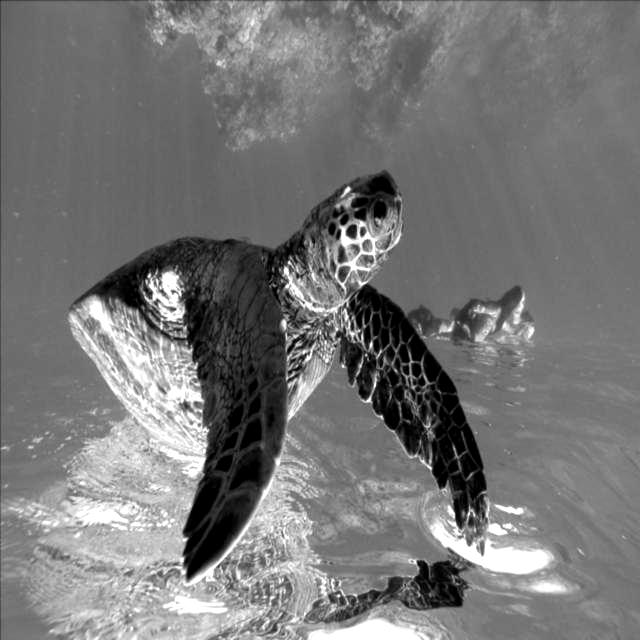Sea turtle: (67, 165, 492, 589)
